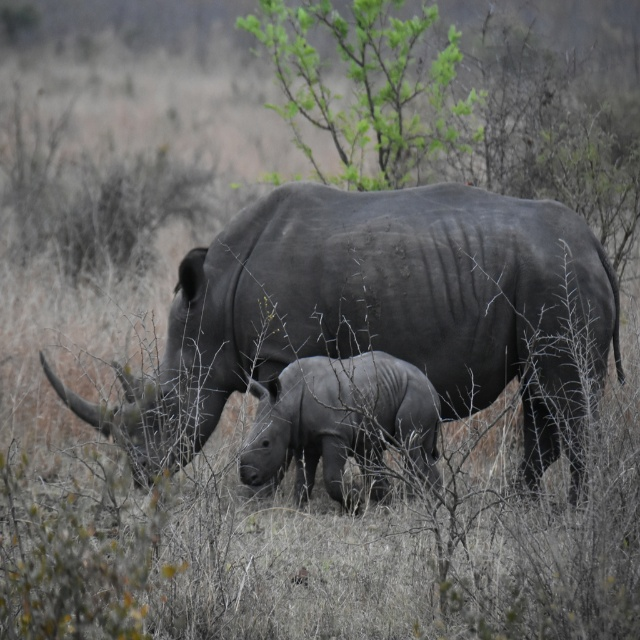Rhinoceros: (37, 183, 626, 512), (237, 349, 441, 515)
